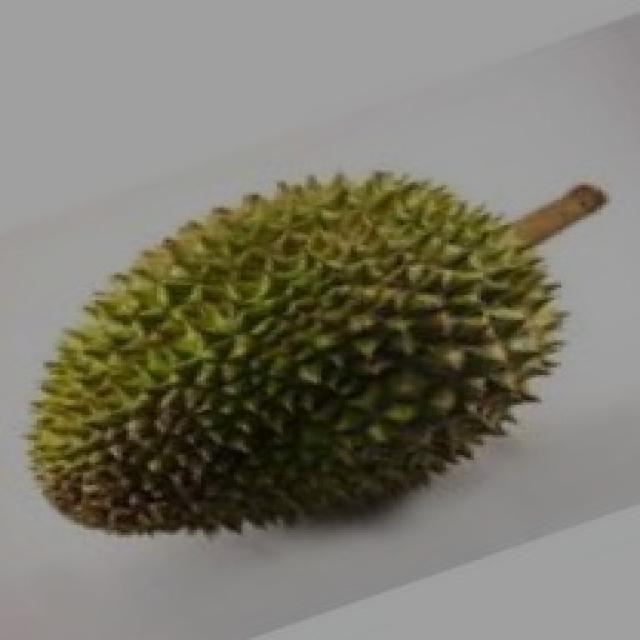fruit: (243, 145, 622, 573), (0, 178, 391, 588)
